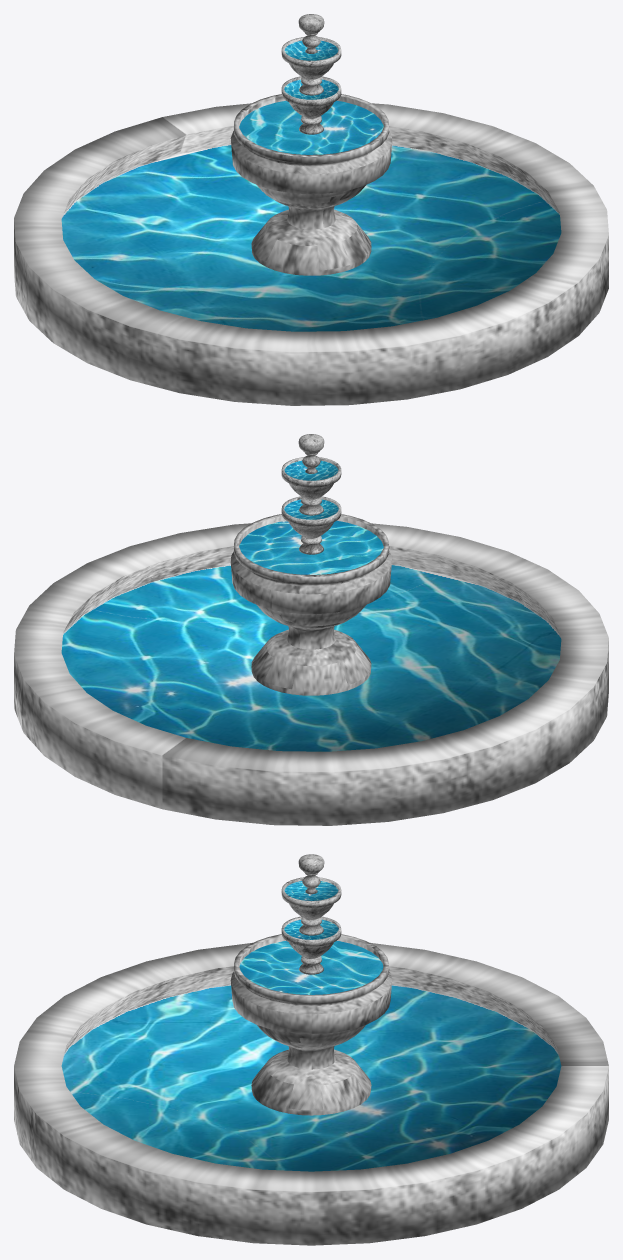
Rendered from Fonte 1.fbx.
The picture shows the model from 3 angles, top to bottom: view 1: azimuth 30°, elevation 25°; view 2: azimuth 150°, elevation 25°; view 3: azimuth 270°, elevation 25°; orthographic projection.
Parts seen in each view (by area): view 1: Base, Primeiro Nivel, Terceiro Nivel, Segundo Nivel, Topo; view 2: Base, Primeiro Nivel, Terceiro Nivel, Segundo Nivel, Topo; view 3: Base, Primeiro Nivel, Terceiro Nivel, Segundo Nivel, Topo.
Boxes of the visible parts, x1,y1,x2,y2 form: Base: [14, 103, 608, 405]; Primeiro Nivel: [230, 94, 392, 275]; Terceiro Nivel: [281, 37, 341, 95]; Segundo Nivel: [281, 76, 341, 134]; Topo: [298, 14, 324, 53]; Base: [14, 523, 608, 825]; Primeiro Nivel: [230, 514, 392, 695]; Terceiro Nivel: [281, 457, 341, 515]; Segundo Nivel: [281, 496, 341, 554]; Topo: [298, 434, 324, 473]; Base: [14, 942, 608, 1245]; Primeiro Nivel: [230, 934, 392, 1115]; Terceiro Nivel: [281, 877, 341, 935]; Segundo Nivel: [281, 916, 341, 974]; Topo: [298, 854, 324, 894].
Bounding box in the file's own units: 500 × 243 × 500.
1 material, 1 textured.
